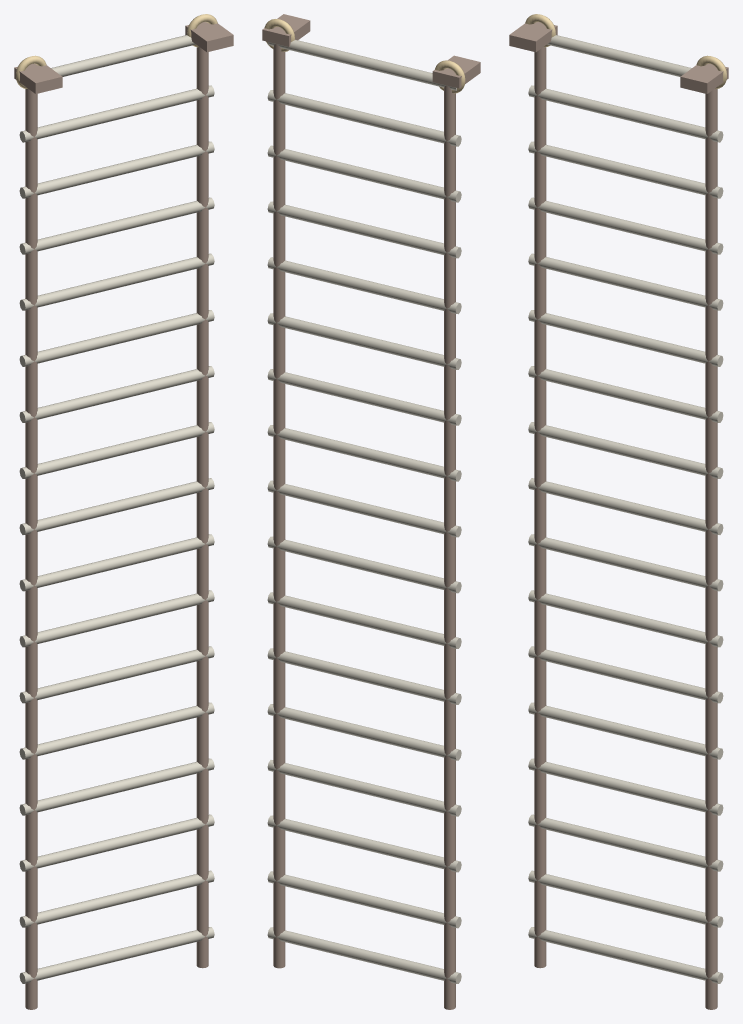
Rendered from prop-ladder.glb.
3 views of the same model, side by side, from view 1: azimuth 30°, elevation 25°; view 2: azimuth 150°, elevation 25°; view 3: azimuth 330°, elevation 25° (orthographic).
Visible parts, largest first — view 1: ladder; view 2: ladder; view 3: ladder.
Boxes of the visible parts, bbox=[...] form: ladder: bbox=[14, 14, 233, 1009]; ladder: bbox=[262, 14, 480, 1009]; ladder: bbox=[509, 14, 728, 1009].
Bounding box in the file's own units: 1.36 × 6.1 × 0.25.
